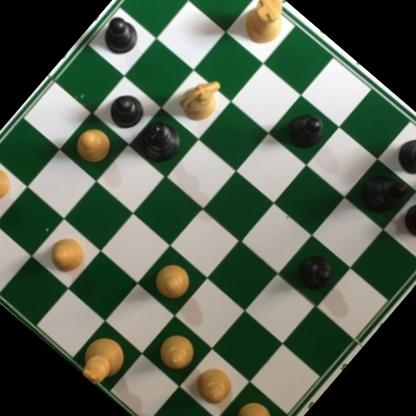black-bishop: (351, 158, 413, 220)
black-king: (128, 110, 189, 170)
black-knight: (389, 120, 416, 186)
black-pawn: (277, 103, 332, 157), (290, 244, 342, 297), (94, 10, 146, 61), (101, 85, 152, 136), (396, 192, 416, 247)
white-king: (71, 326, 138, 394)
white-knight: (172, 64, 234, 128)
white-pawn: (146, 254, 199, 308), (149, 325, 203, 378), (187, 359, 240, 412), (41, 228, 94, 280), (69, 121, 118, 171), (225, 392, 280, 416), (0, 155, 21, 209)
white-rook: (230, 0, 297, 52)
